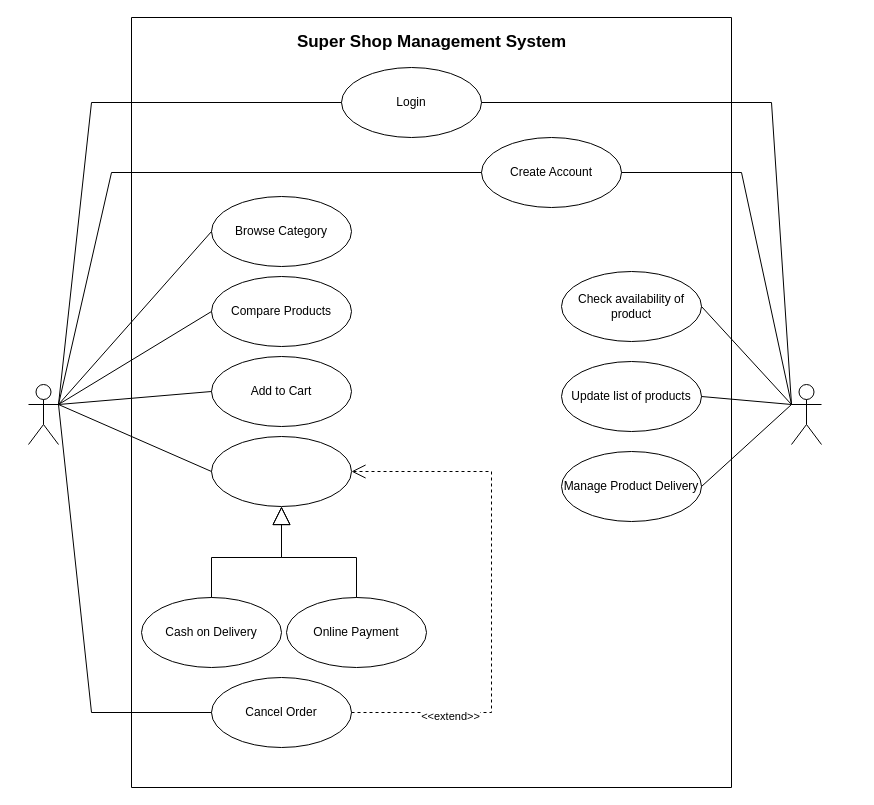
This 874x805 diagram has some shape labels left out. Each missing label, with the centre of its shape:
"Customer" goes at pixel 43 414.
"Payment" goes at pixel 281 471.
"Shop Manager" goes at pixel 806 414.
